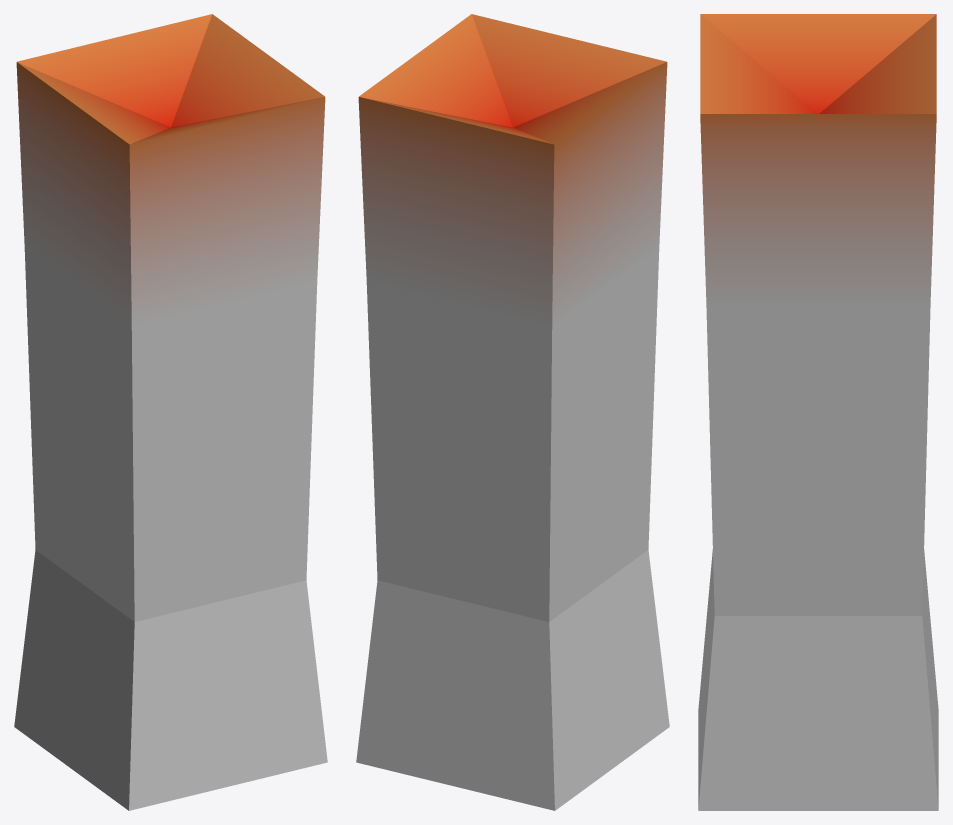
The model's file is brazierPillar_lit.fbx.
3 renders of one model, left to right at view 1: azimuth 30°, elevation 25°; view 2: azimuth 150°, elevation 25°; view 3: azimuth 270°, elevation 25°, orthographic. The views are drawn at different scales.
Visible parts, largest first — view 1: Brazier; view 2: Brazier; view 3: Brazier.
Part boxes in pixels (x1,y1,x2,y2): Brazier: (14, 14, 327, 810); Brazier: (356, 14, 669, 810); Brazier: (698, 14, 938, 810).
Size of the model in its own units: 157 by 501 by 157.
